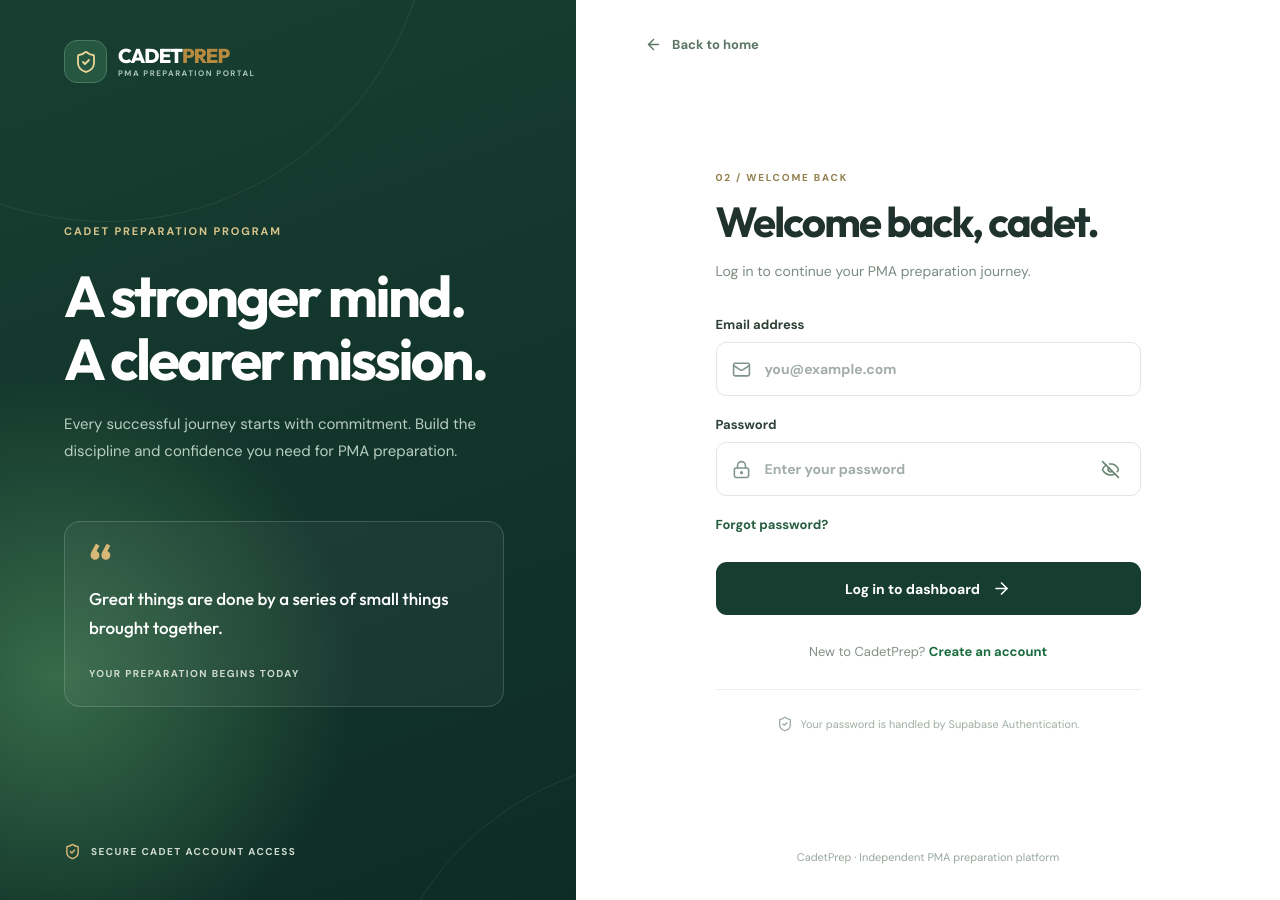
Forgot password opens email recovery without a current password field
The image size is (1280, 900).
Step 1. Click the link "Forgot password?" → {"x": 772, "y": 525}, box [716,516,828,533]
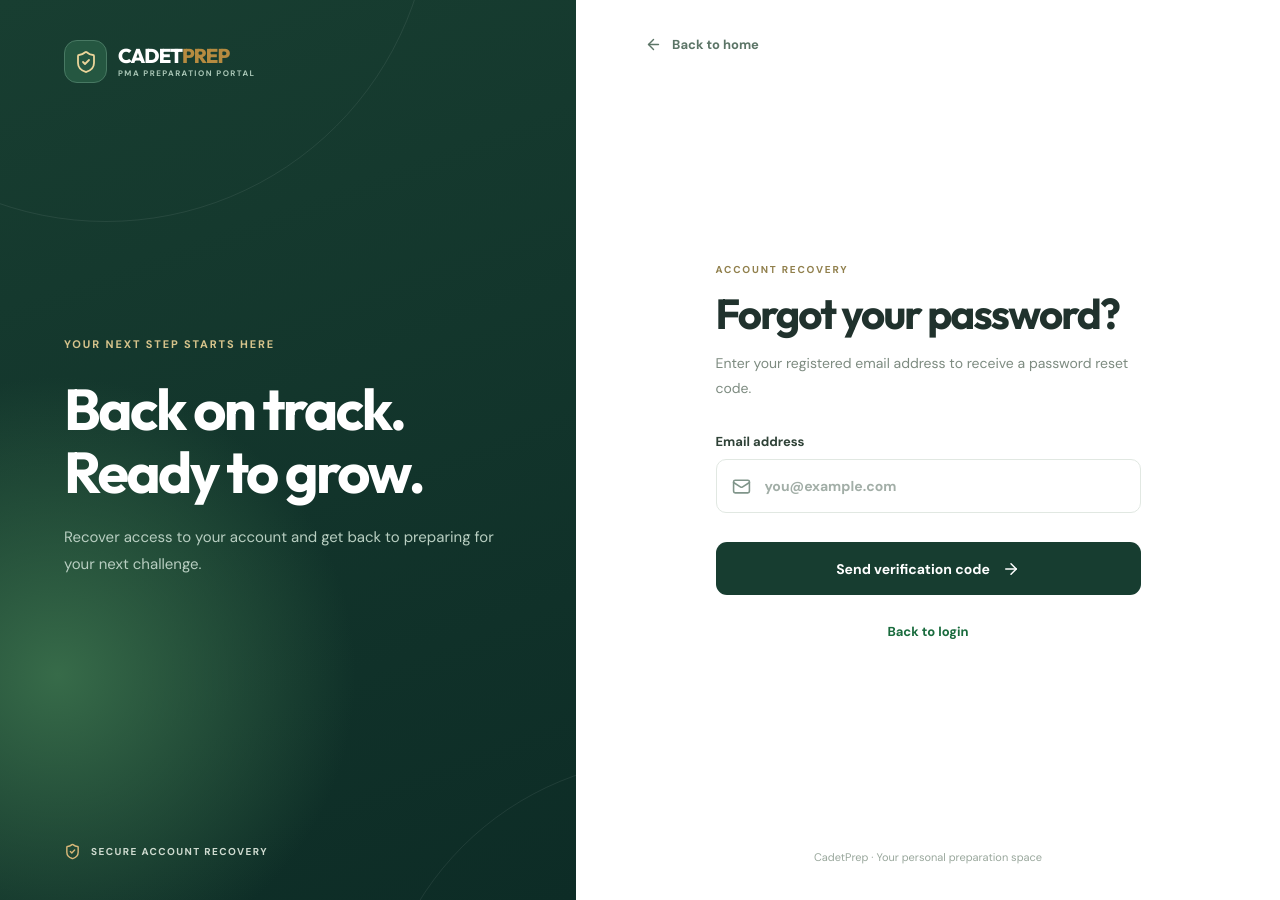
Expected: the heading "Forgot your password?" is shown, [716,289,1140,338]
Expected: the password field labelled "Current password" is gone
Expected: the password field labelled "Update password" is gone
